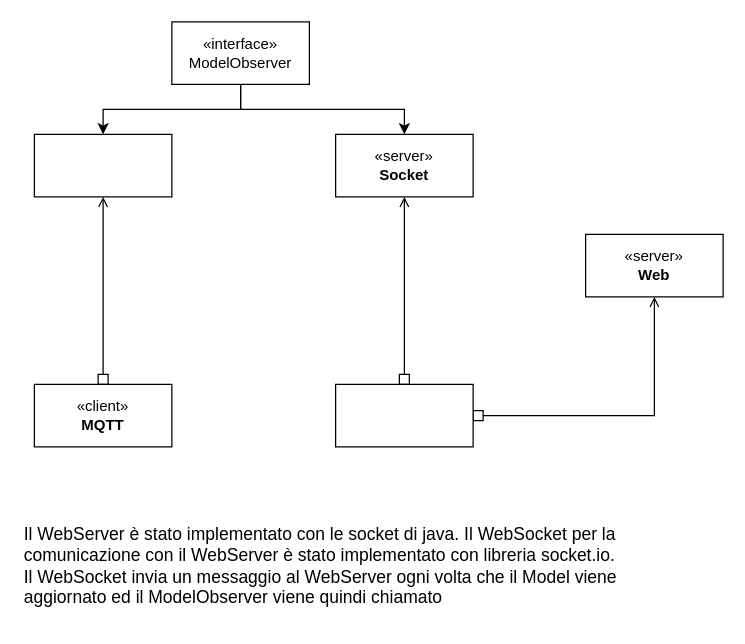
Image size: 745x644. Some labels were removed from this diagram. The shapes that lost their labels are listed below. From the top down, each one's box as (x1, y1, x2, y2) in pixels, then its label:
(33, 133, 172, 197): «server» MQTT
(334, 383, 473, 447): «client» Web
